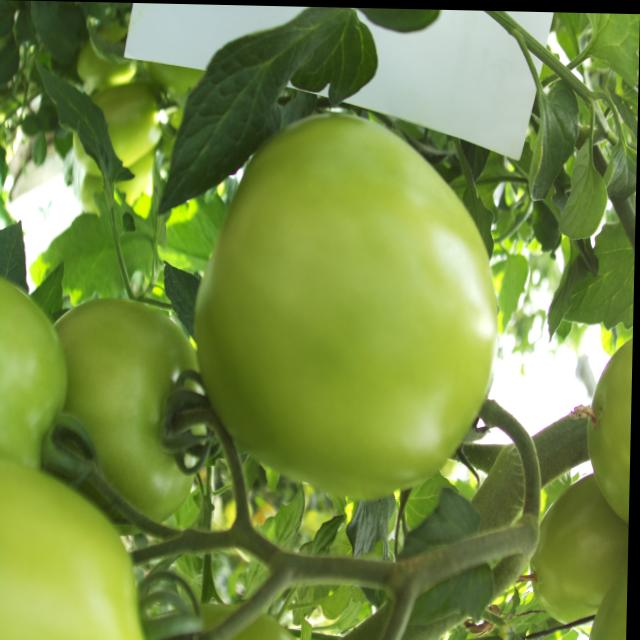yesil: (189, 106, 511, 495)
